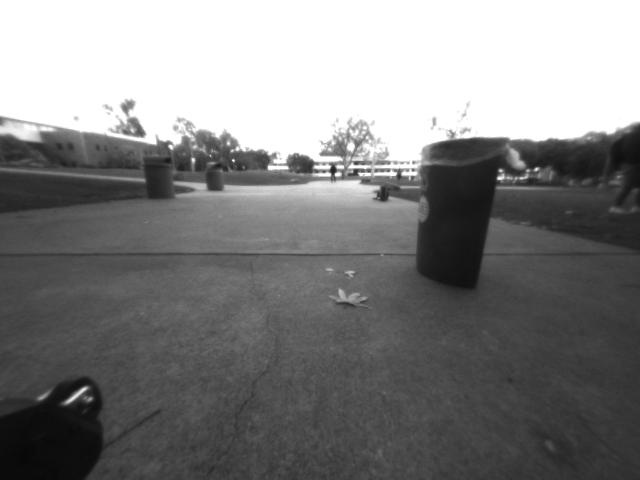trashcan_open: (410, 128, 510, 295)
